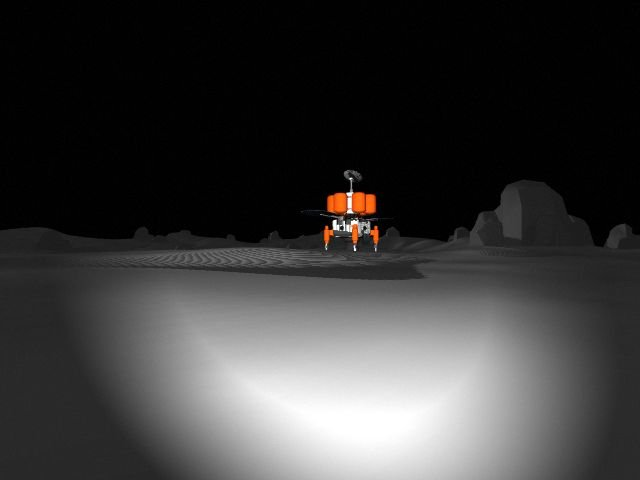homebase: (294, 167, 402, 257)
